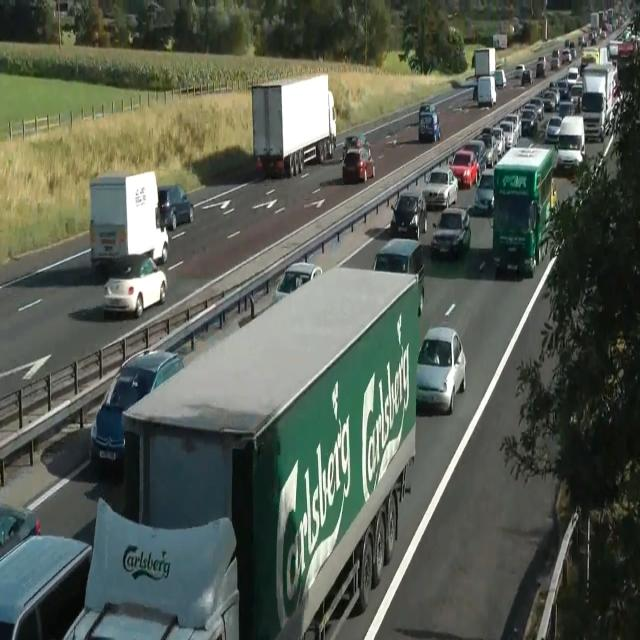bus: (90, 348, 184, 473), (0, 533, 92, 639), (416, 324, 466, 414), (103, 256, 167, 317), (0, 503, 40, 561), (429, 207, 471, 259), (273, 261, 323, 304), (391, 188, 427, 238), (156, 183, 194, 230), (422, 167, 458, 209), (341, 146, 375, 184), (448, 148, 479, 188), (606, 26, 640, 61), (473, 172, 495, 214), (462, 140, 486, 176), (342, 132, 370, 160), (149, 225, 169, 264), (478, 132, 498, 167), (498, 119, 518, 149), (519, 107, 537, 136), (544, 116, 562, 144), (524, 98, 544, 121), (541, 89, 559, 111), (418, 102, 436, 123), (494, 68, 506, 89), (510, 16, 522, 36), (567, 67, 579, 87), (536, 56, 547, 77), (521, 70, 533, 86), (515, 64, 525, 78), (578, 36, 586, 48)
car: (62, 496, 240, 638)
jeep: (372, 236, 425, 316), (556, 114, 586, 172), (418, 110, 440, 142)
minibus: (120, 264, 421, 638), (252, 72, 336, 179), (492, 144, 557, 277), (89, 170, 169, 272), (580, 62, 618, 142), (473, 47, 495, 80), (474, 76, 496, 106), (492, 32, 508, 50)
